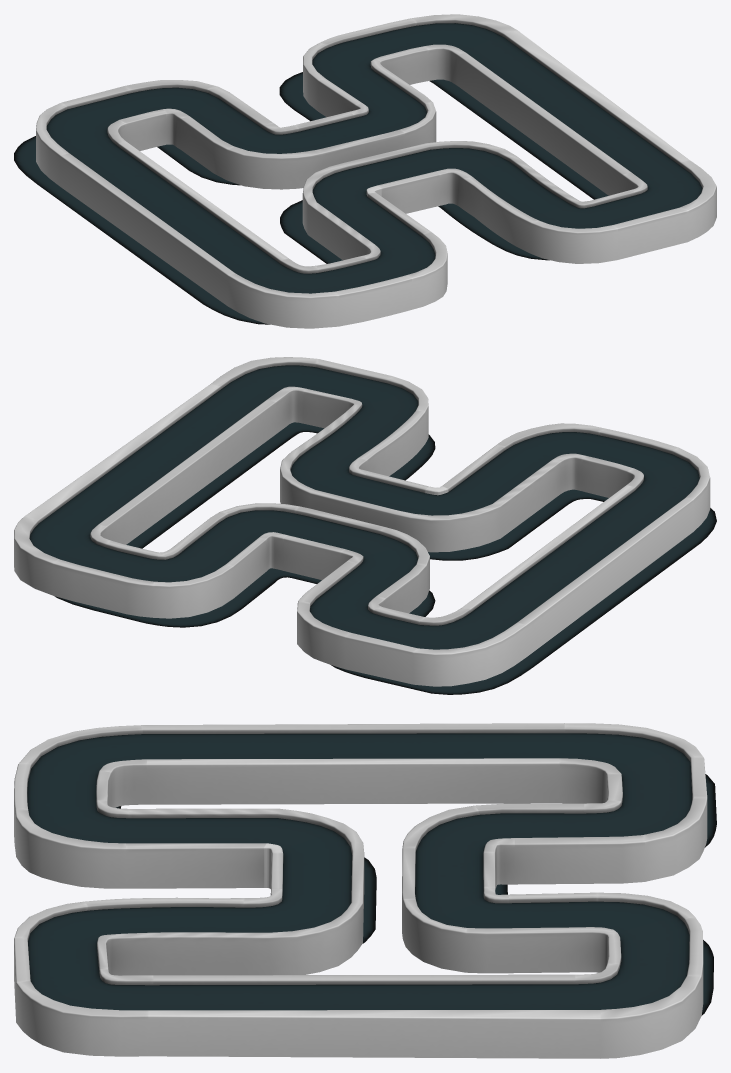
Rendered from belt_04.fbx.
The picture shows the model from 3 angles, top to bottom: view 1: azimuth 30°, elevation 25°; view 2: azimuth 150°, elevation 25°; view 3: azimuth 270°, elevation 25°; orthographic projection. The views are drawn at different scales.
Visible parts, largest first — view 1: belt_5_side, belt_5, belt_5_shadow; view 2: belt_5_side, belt_5, belt_5_shadow; view 3: belt_5_side, belt_5, belt_5_shadow.
Part boxes in pixels (left/top/right/bottom): belt_5_side: left=36, top=14, right=716, bottom=328; belt_5: left=46, top=23, right=702, bottom=293; belt_5_shadow: left=14, top=72, right=608, bottom=324; belt_5_side: left=14, top=357, right=710, bottom=686; belt_5: left=29, top=365, right=699, bottom=649; belt_5_shadow: left=54, top=422, right=716, bottom=694; belt_5_side: left=14, top=723, right=707, bottom=1058; belt_5: left=27, top=733, right=692, bottom=1010; belt_5_shadow: left=116, top=774, right=716, bottom=1015.
Size of the model in its own units: 95.18 by 5.92 by 92.75.
1 material, 1 textured.
